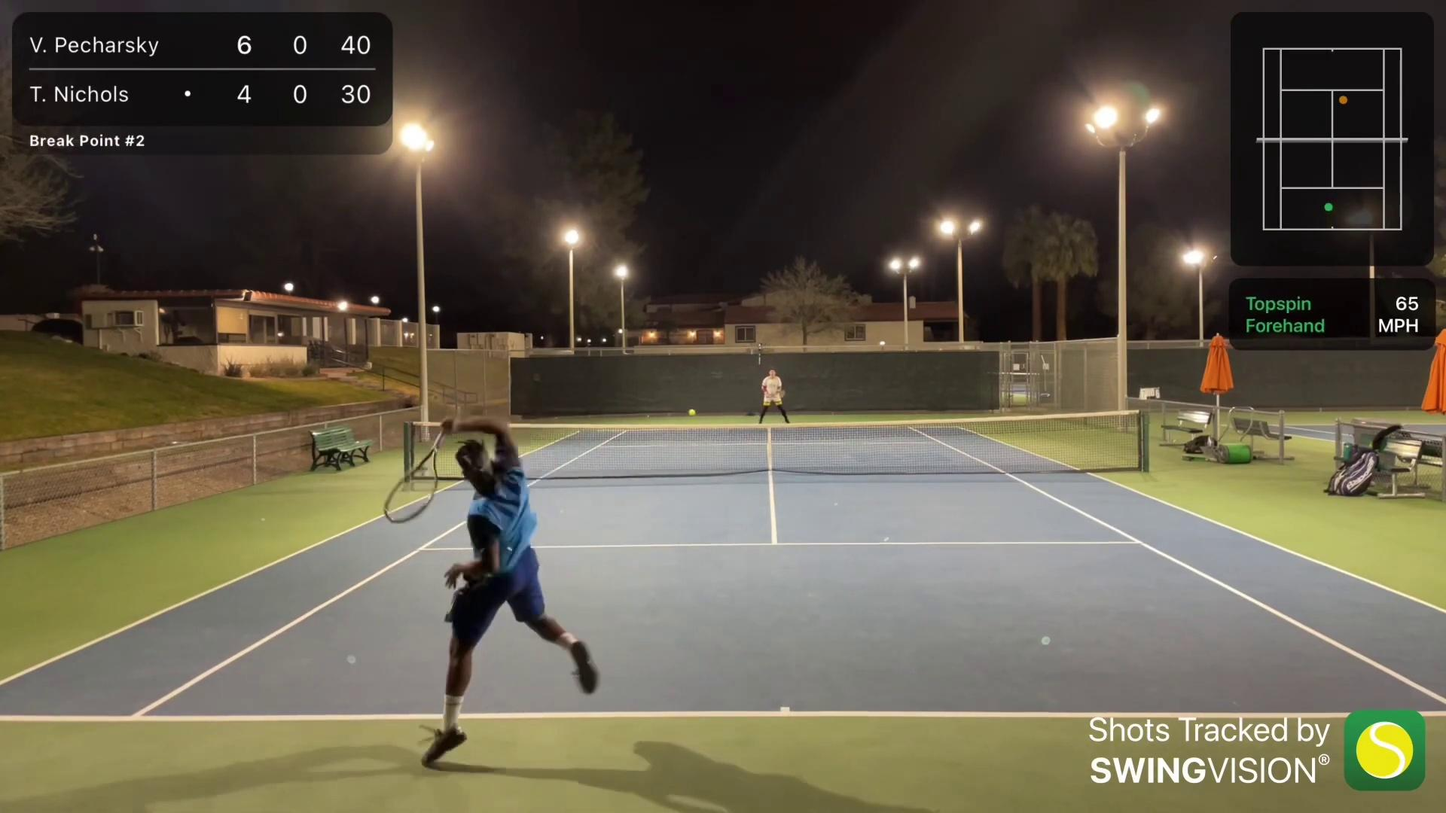ball: (686, 404, 698, 420)
